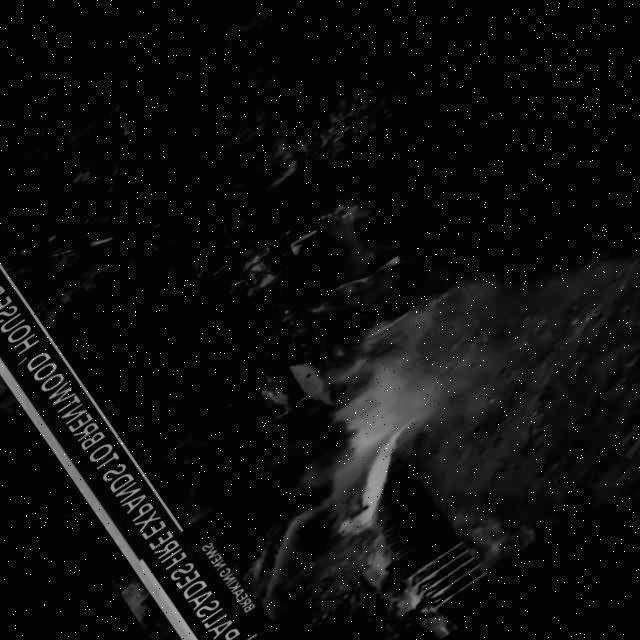Smoke: (302, 36, 630, 363)
